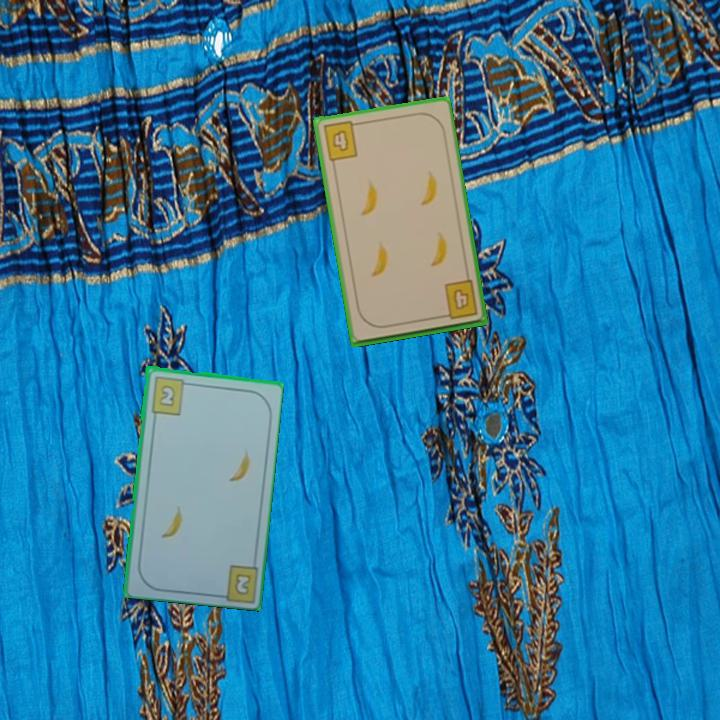2b: (147, 373, 193, 417), (231, 570, 253, 598)
4b: (437, 277, 480, 322), (320, 118, 362, 164)
